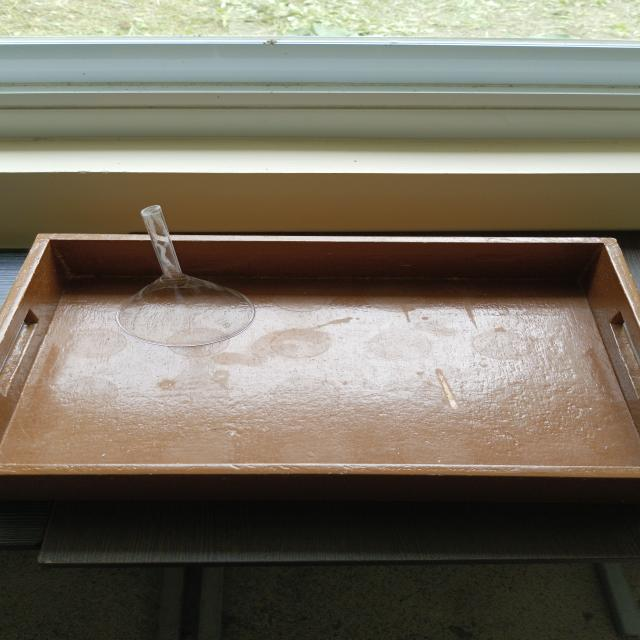funnel: (74, 202, 272, 345)
